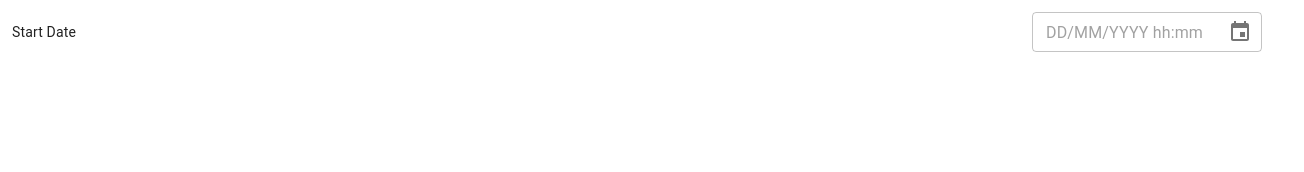
Test: CardDateField › an impossible date › is complete, with no message, once corrected
Click the number field labelled "DD".
click(1057, 32)  # box [1046,22,1067,42]
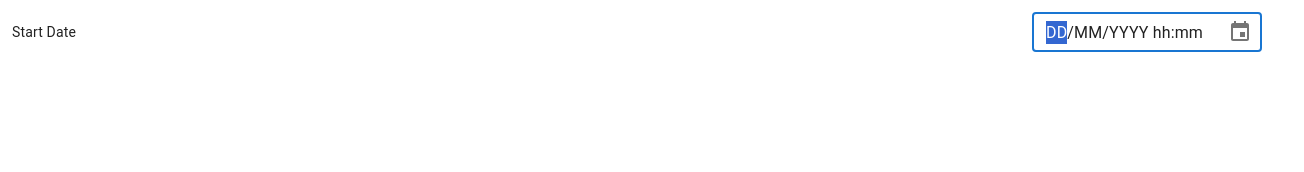
Type keys "310220261000"
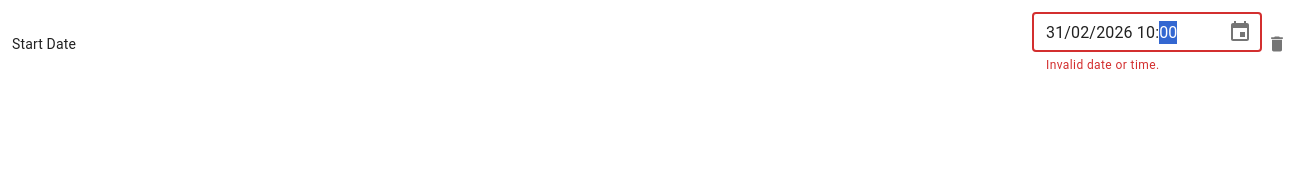
Result: the text "Invalid date or time." is shown at [1046,58,1160,72]
Click the number field labelled "31".
click(1055, 32)  # box [1046,22,1064,42]
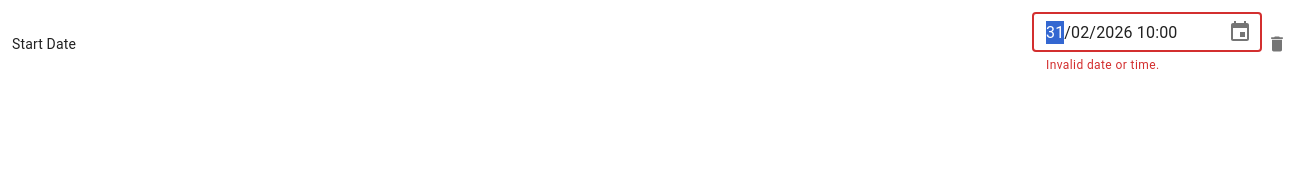
Type keys "28"
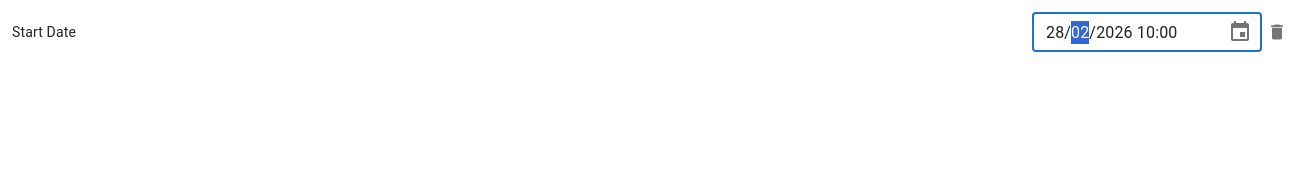
Result: the text "Invalid date or time." is gone
